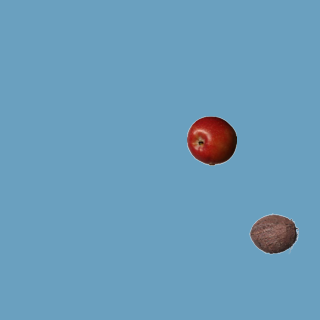Apple Braeburn: (186, 115, 236, 165)
Cocos: (248, 208, 298, 258)
